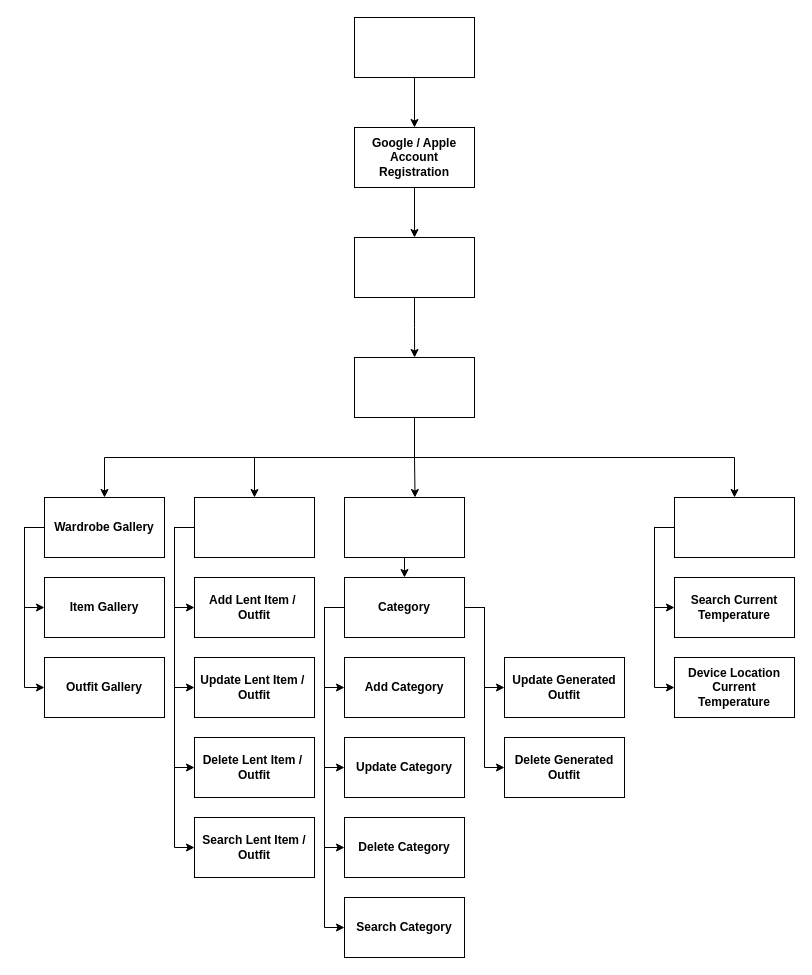
This 812x975 diagram has some shape labels left out. Here are the shapes that lost their labels. From the top down, the box of each, then its label:
(354, 16, 474, 78): OOTDLY APPLICATION
(354, 236, 474, 298): Google / Apple Account Login
(354, 356, 474, 418): Wardrobe Tab
(194, 496, 314, 558): Lent Records
(344, 496, 464, 558): Generated Outfits
(674, 496, 794, 558): Location Current Temperature
